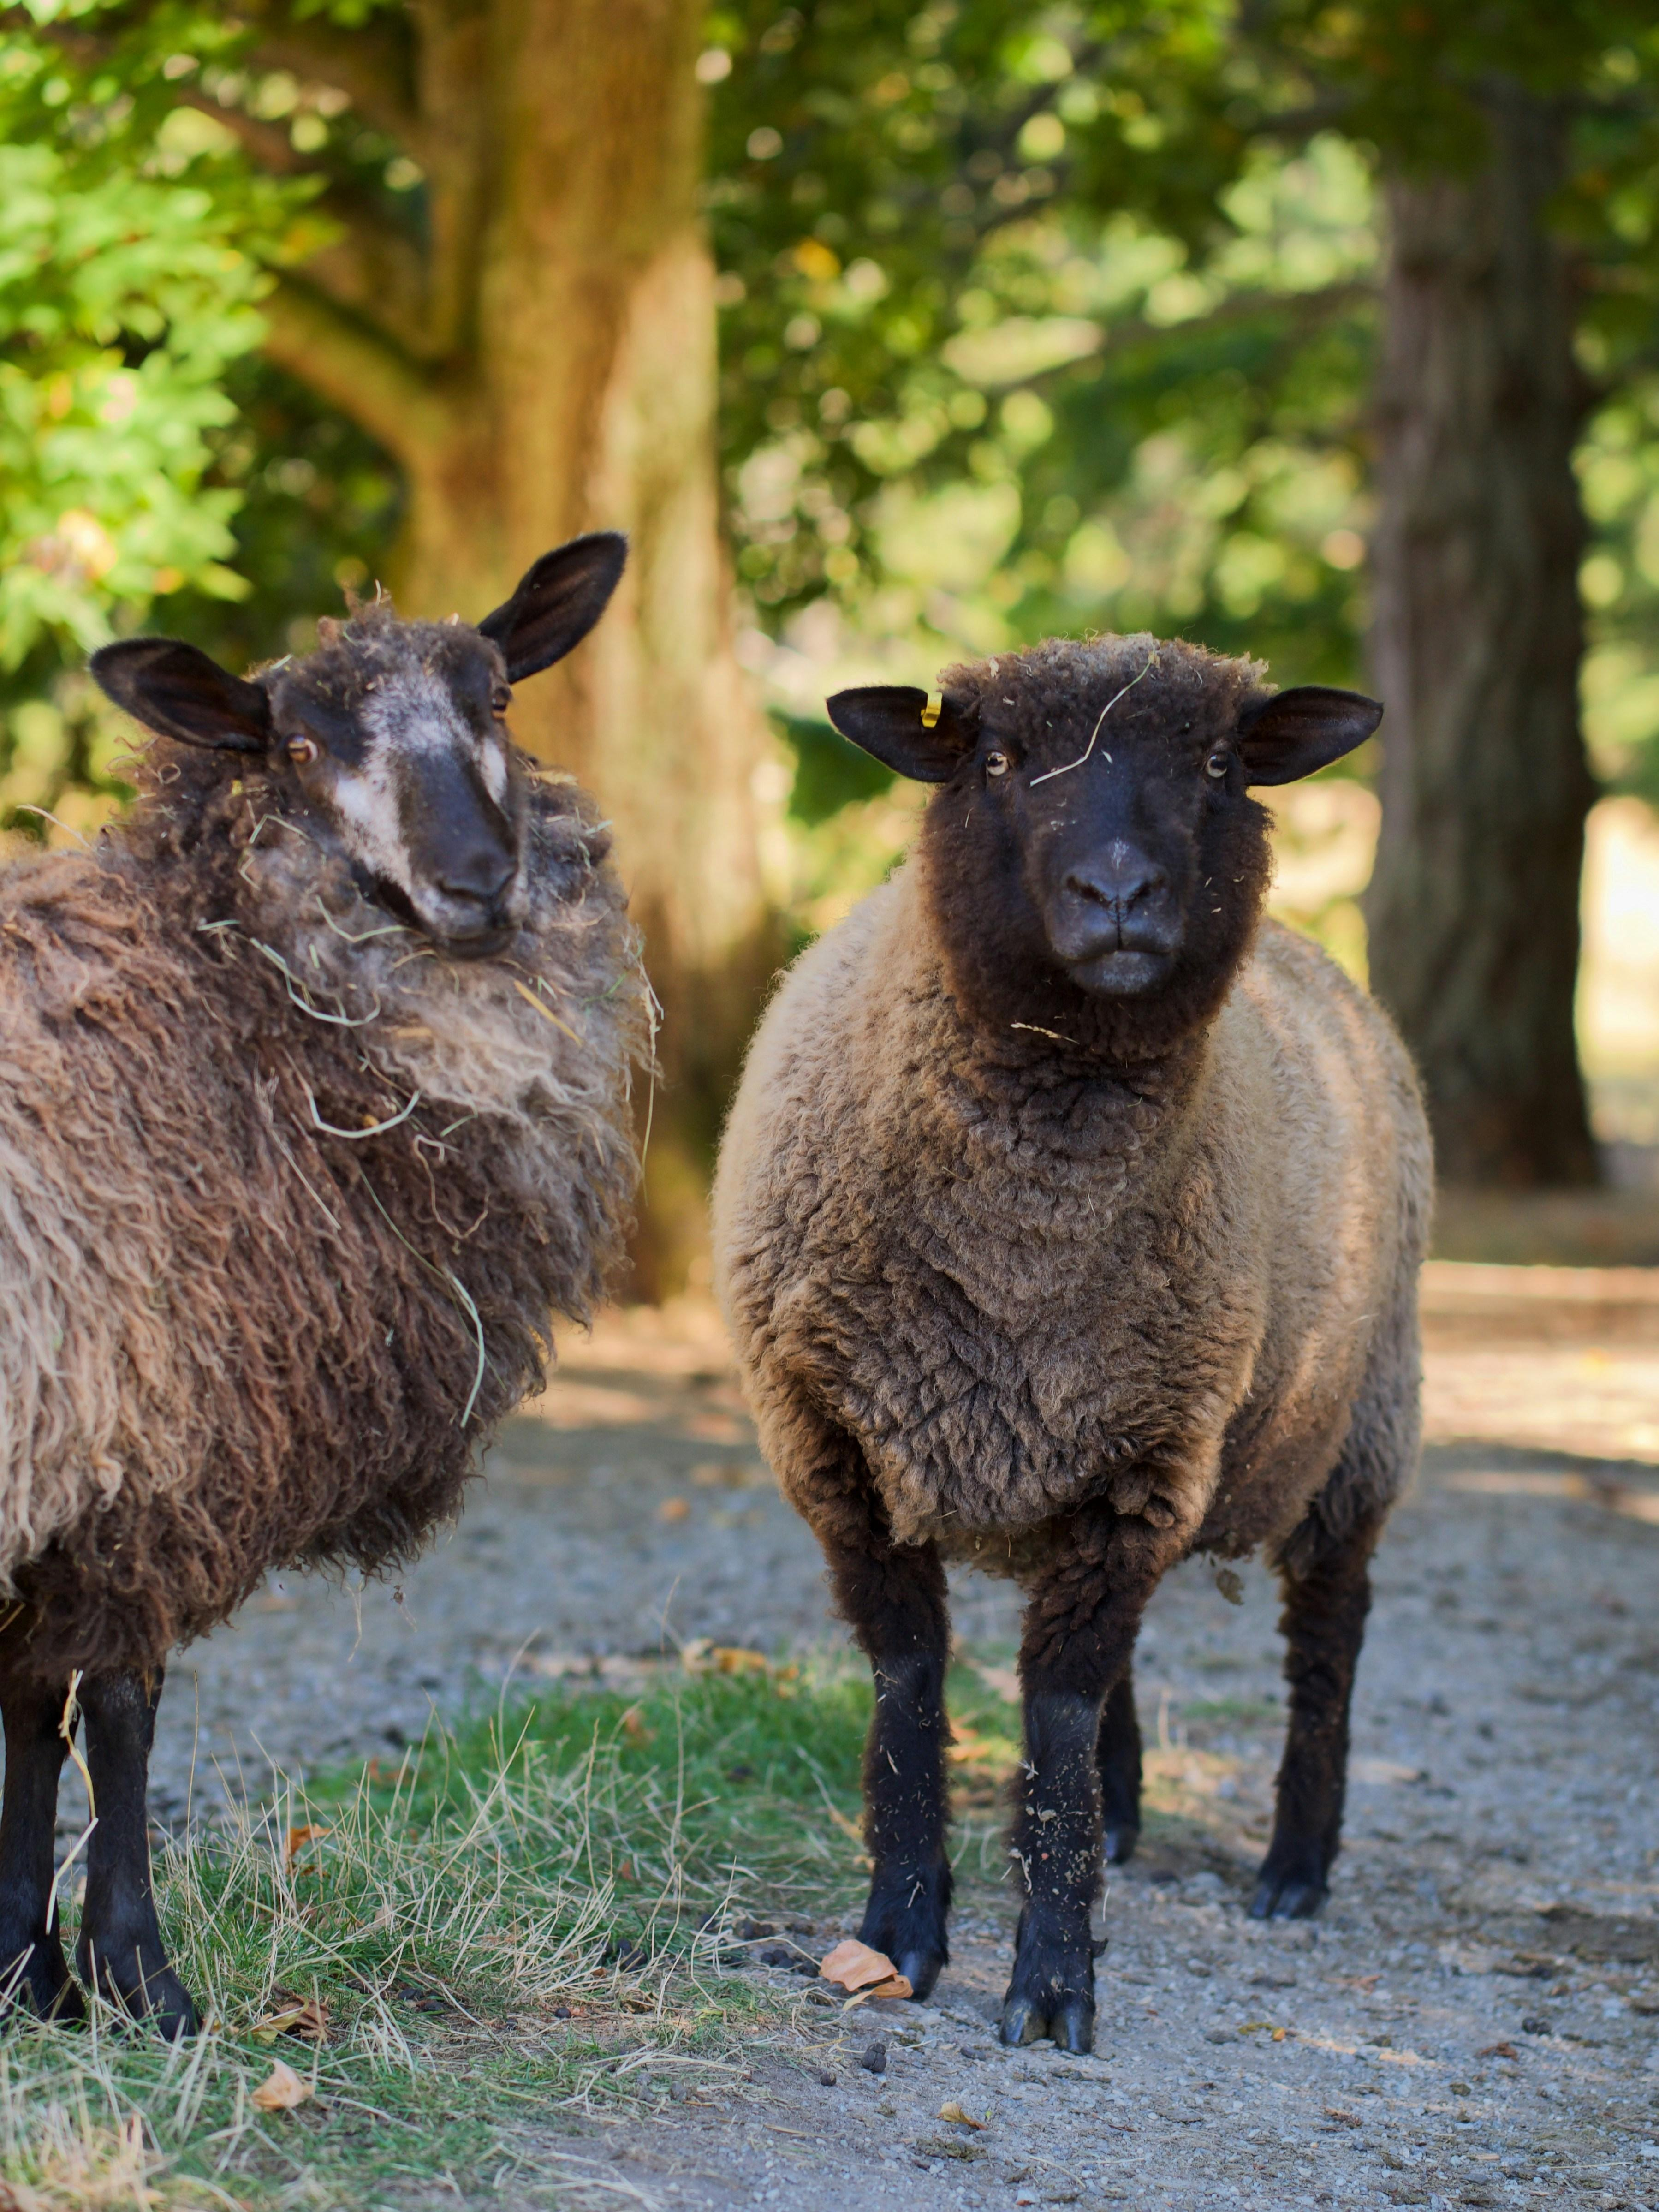sheep: (711, 636, 1429, 2057), (0, 530, 659, 2039)
